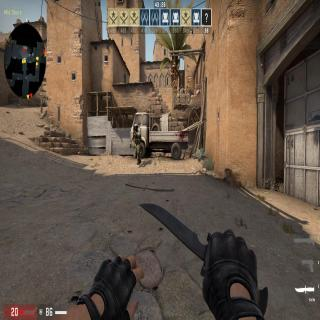CT-Body: (132, 124, 143, 166)
CT-Head: (134, 124, 138, 131)
